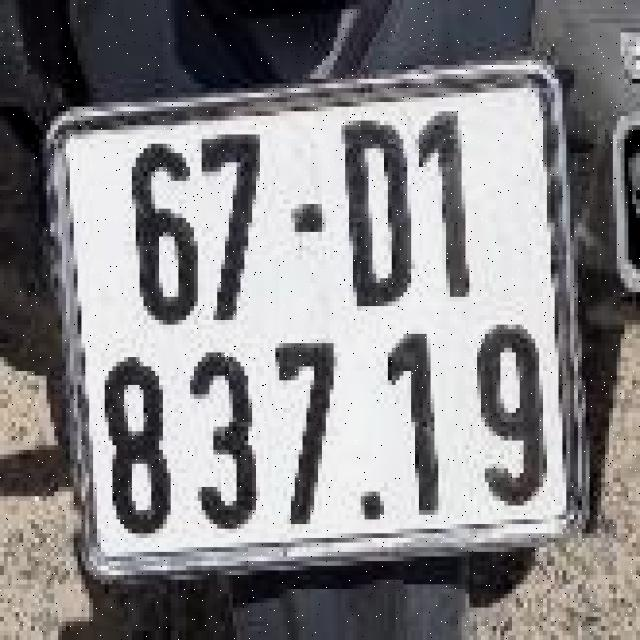1: (411, 95, 489, 313), (384, 322, 462, 526)
3: (192, 332, 266, 536)
6: (118, 127, 204, 327)
7: (266, 313, 358, 536), (190, 123, 272, 327)
8: (87, 336, 188, 536)
9: (462, 306, 570, 529)
D: (330, 109, 430, 318)
